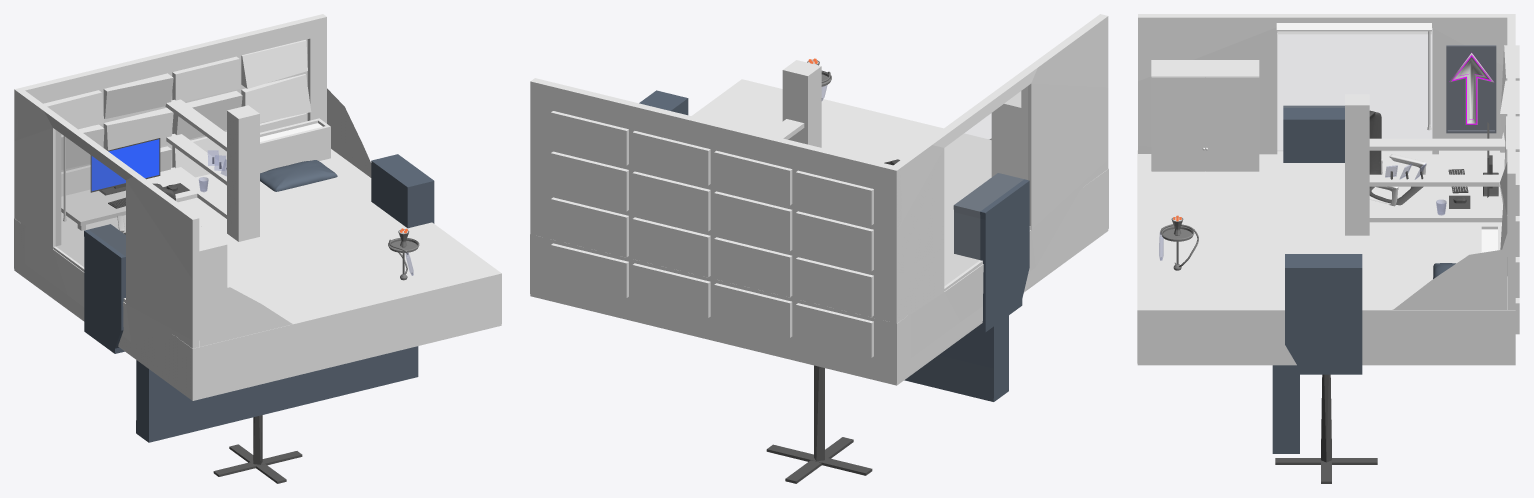
The model's file is isoroom.glb.
3 renders of one model, left to right at view 1: azimuth 30°, elevation 25°; view 2: azimuth 150°, elevation 25°; view 3: azimuth 270°, elevation 25°, orthographic. The views are drawn at different scales.
Visible parts, largest first — view 1: Cube.005, Plane.001, Cube.010, Plane.009, Plane.014, Plane.003, Plane.002, Plane.010, Plane.006, Cube.001, Cube.009, Plane.011 (+2 smaller); view 2: Plane.009, Plane.001, Cube.005, Cube.010, Plane.003, Plane.014, Cube.009, Cube.001; view 3: Cube.005, Plane.001, Cube.010, Plane.003, Cube.001, Plane.014, arrow body, Plane.002, Plane.009, Cube.009, Plane.018, Plane.020 (+4 smaller).
Part boxes in pixels (x1=…): Cube.005: x1=14, y1=149, x2=501, y2=399; Plane.001: x1=14, y1=14, x2=326, y2=400; Cube.010: x1=84, y1=154, x2=434, y2=442; Plane.009: x1=43, y1=40, x2=311, y2=196; Plane.014: x1=61, y1=99, x2=259, y2=241; Plane.003: x1=56, y1=130, x2=125, y2=266; Plane.002: x1=199, y1=88, x2=371, y2=346; Plane.010: x1=260, y1=118, x2=330, y2=173; Plane.006: x1=90, y1=138, x2=160, y2=195; Cube.001: x1=199, y1=224, x2=227, y2=340; Cube.009: x1=213, y1=415, x2=302, y2=483; Plane.011: x1=260, y1=160, x2=337, y2=191; Plane.009: x1=551, y1=111, x2=873, y2=357; Plane.001: x1=530, y1=14, x2=1108, y2=385; Cube.005: x1=530, y1=79, x2=1108, y2=383; Cube.010: x1=639, y1=90, x2=1029, y2=401; Plane.003: x1=944, y1=86, x2=1027, y2=285; Plane.014: x1=766, y1=60, x2=821, y2=147; Cube.009: x1=766, y1=365, x2=872, y2=483; Cube.001: x1=991, y1=91, x2=1021, y2=178; Cube.005: x1=1137, y1=150, x2=1515, y2=363; Plane.001: x1=1138, y1=14, x2=1515, y2=364; Cube.010: x1=1272, y1=105, x2=1362, y2=453; Plane.003: x1=1277, y1=34, x2=1431, y2=150; Cube.001: x1=1151, y1=60, x2=1259, y2=171; Plane.014: x1=1345, y1=94, x2=1505, y2=235; arrow body: x1=1446, y1=45, x2=1496, y2=133; Plane.002: x1=1392, y1=249, x2=1506, y2=309; Plane.009: x1=1499, y1=45, x2=1519, y2=334; Cube.009: x1=1275, y1=374, x2=1377, y2=483; Plane.018: x1=1276, y1=23, x2=1431, y2=130; Plane.020: x1=1369, y1=110, x2=1426, y2=206.
Bounding box in the file's own units: 11.72 × 12.42 × 11.67.
